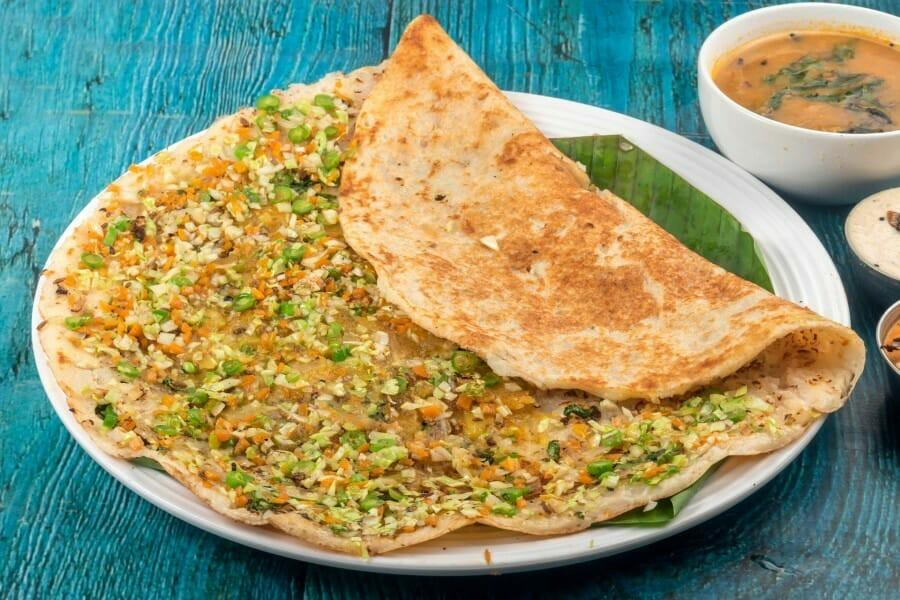CoconutChutney: (846, 186, 900, 278)
Dosa: (38, 14, 865, 559)
